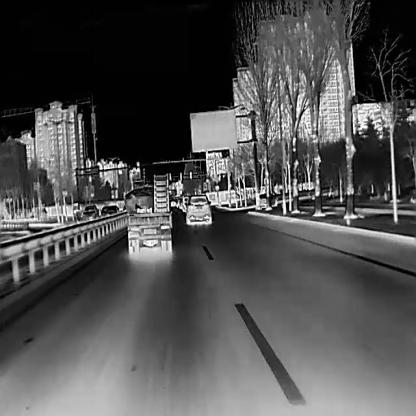car: (184, 193, 212, 225), (99, 204, 120, 227), (78, 204, 98, 228), (180, 197, 188, 211)
truck: (124, 172, 170, 254)
